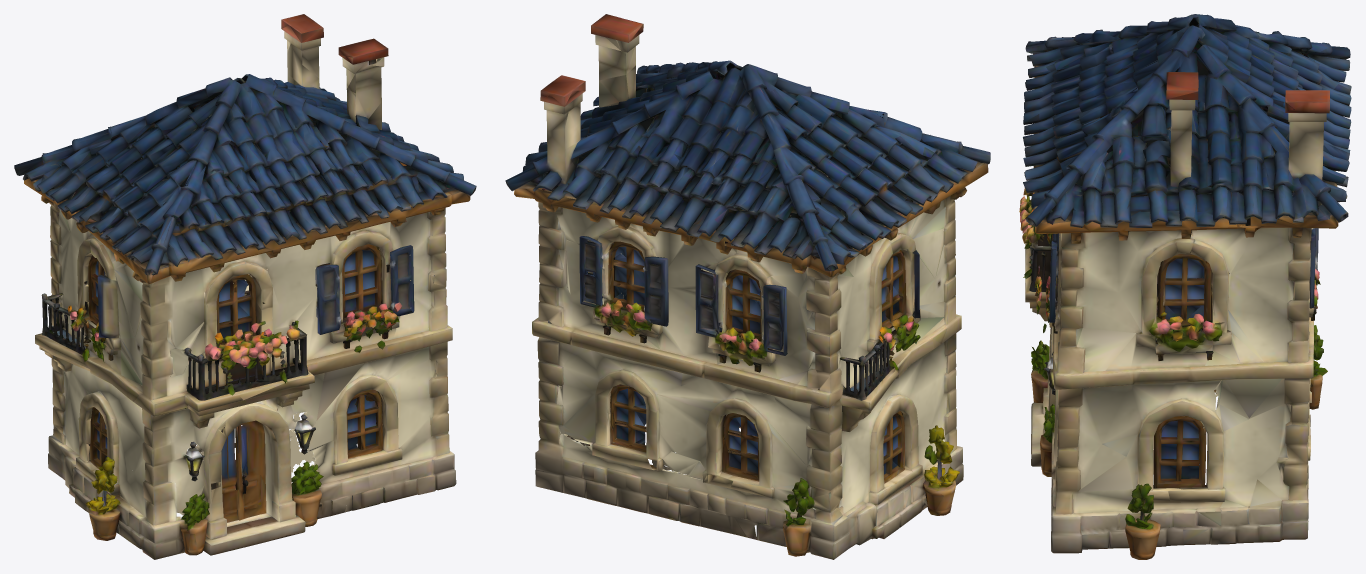
Rendered from harbor_house.glb.
3 renders of one model, left to right at view 1: azimuth 30°, elevation 25°; view 2: azimuth 150°, elevation 25°; view 3: azimuth 270°, elevation 25°, orthographic. The views are drawn at different scales.
Visible parts, largest first — view 1: harbor_house_ai_structure; view 2: harbor_house_ai_structure; view 3: harbor_house_ai_structure.
Boxes of the visible parts, x1,y1,x2,y2 form: harbor_house_ai_structure: (14,14,476,559); harbor_house_ai_structure: (505,14,990,559); harbor_house_ai_structure: (1019,14,1351,559).
Size of the model in its own units: 2.71 by 3 by 1.98.
1 material, 1 textured.
